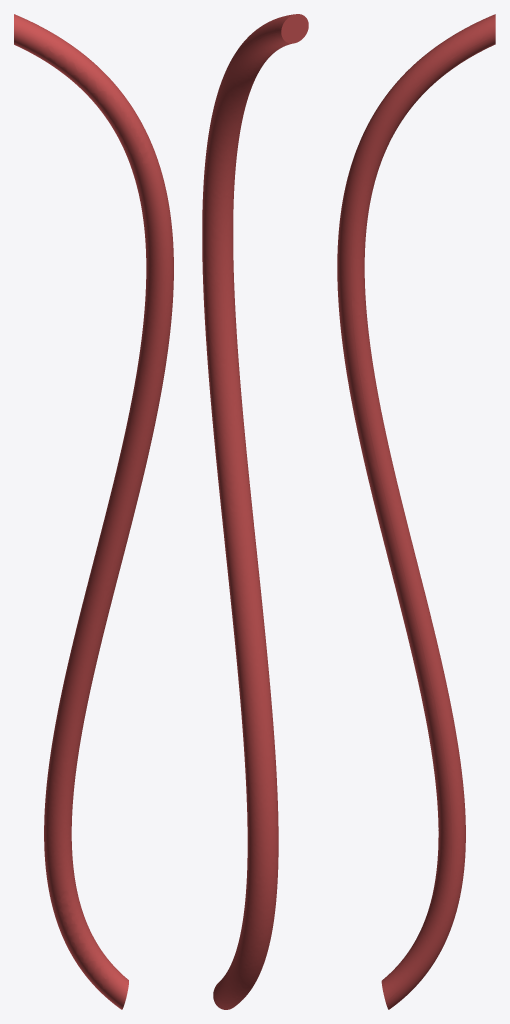
File: motor_lead_red.glb
The picture shows the model from 3 angles, left to right: view 1: azimuth 90°, elevation 25°; view 2: azimuth 210°, elevation 25°; view 3: azimuth 270°, elevation 25°; orthographic projection. The views are drawn at different scales.
Visible parts, largest first — view 1: geometry_0; view 2: geometry_0; view 3: geometry_0.
Part boxes in pixels (x1=…): geometry_0: x1=14, y1=14, x2=173, y2=1009; geometry_0: x1=202, y1=14, x2=308, y2=1009; geometry_0: x1=337, y1=14, x2=495, y2=1009.
Bounding box in the file's own units: 2.21 × 57.38 × 8.34.
